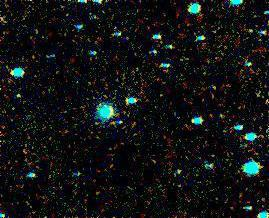star: (107, 106, 137, 136)
